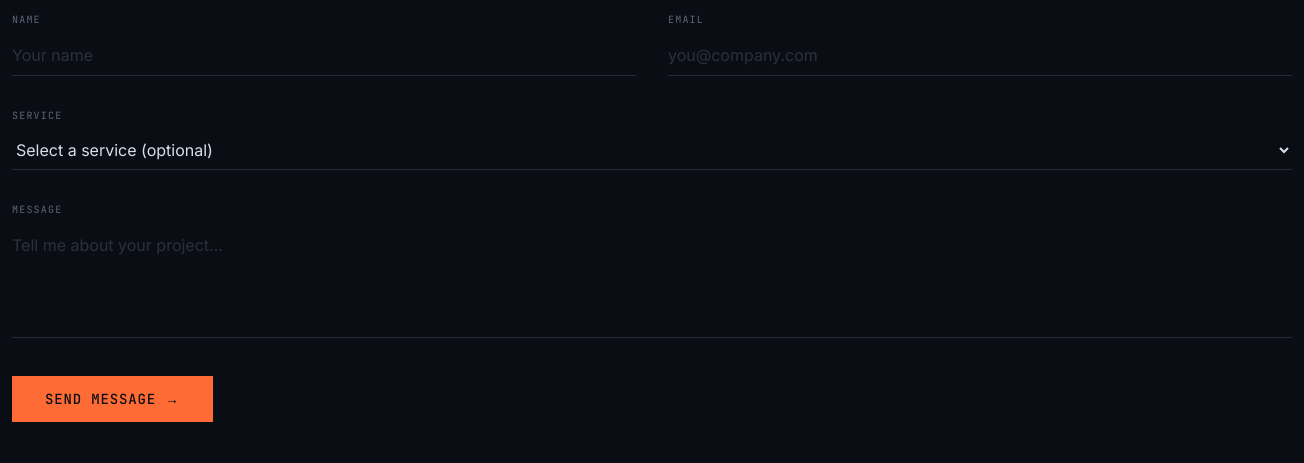
Test case: ContactForm › shows an email format error on invalid input
Step 1. Type "John Doe" into the field labelled "Name" → {"x": 324, "y": 56}, box [12, 35, 636, 76]
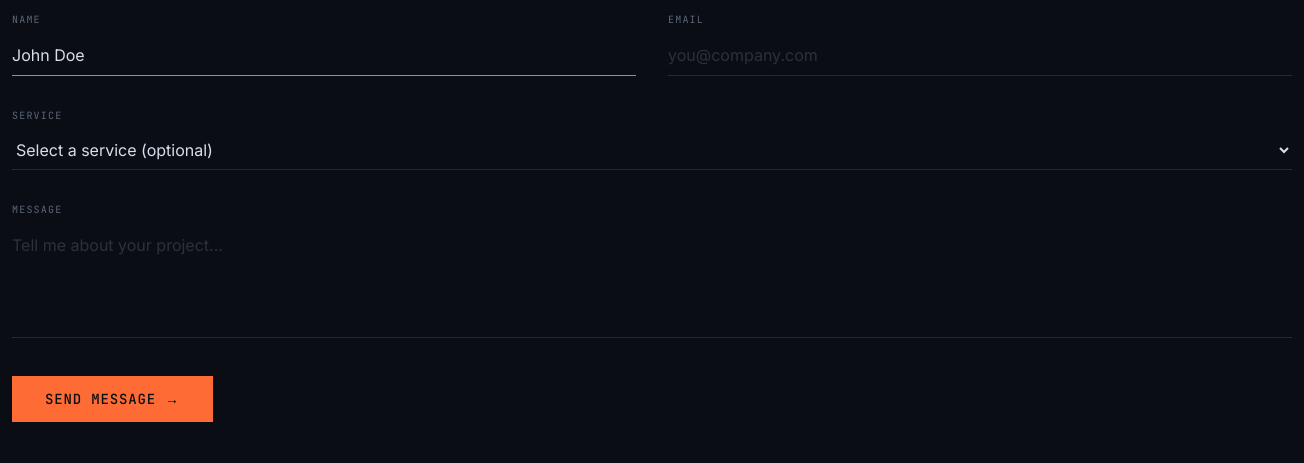
Step 2. Type "Hello, I would like to hire you for a blog project." into the text box labelled "Message" → {"x": 652, "y": 282}, box [12, 225, 1292, 338]
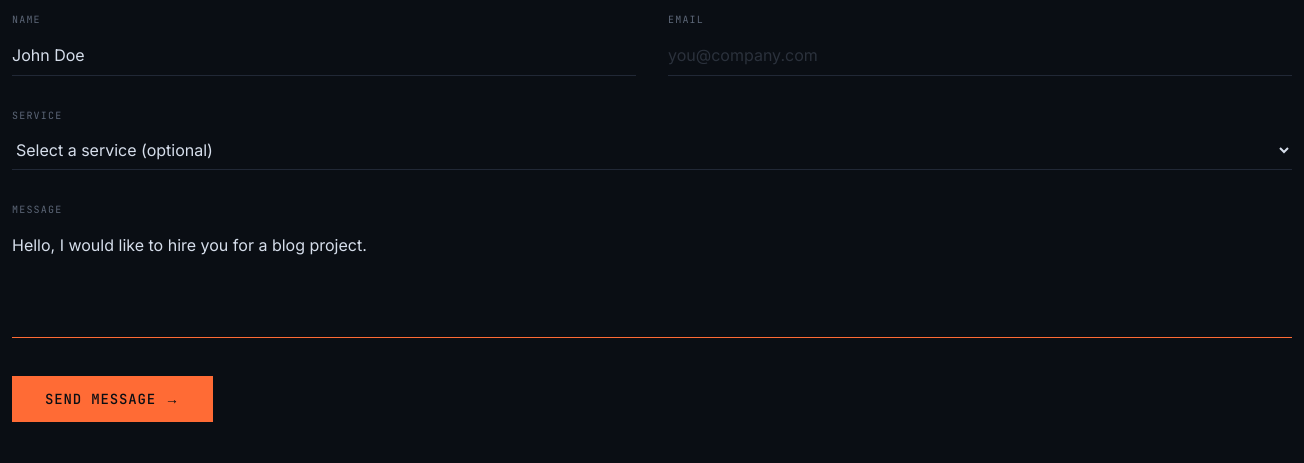
Step 3. Click the button "Send message →" → {"x": 112, "y": 399}, box [12, 376, 213, 422]
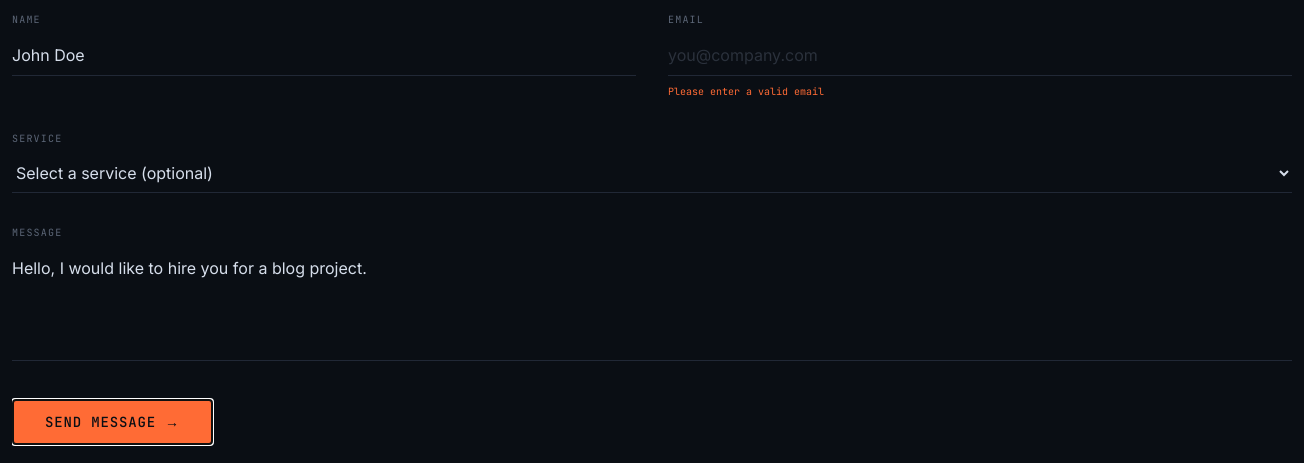
Expected: the text "Please enter a valid email" is shown, [668, 85, 824, 98]
